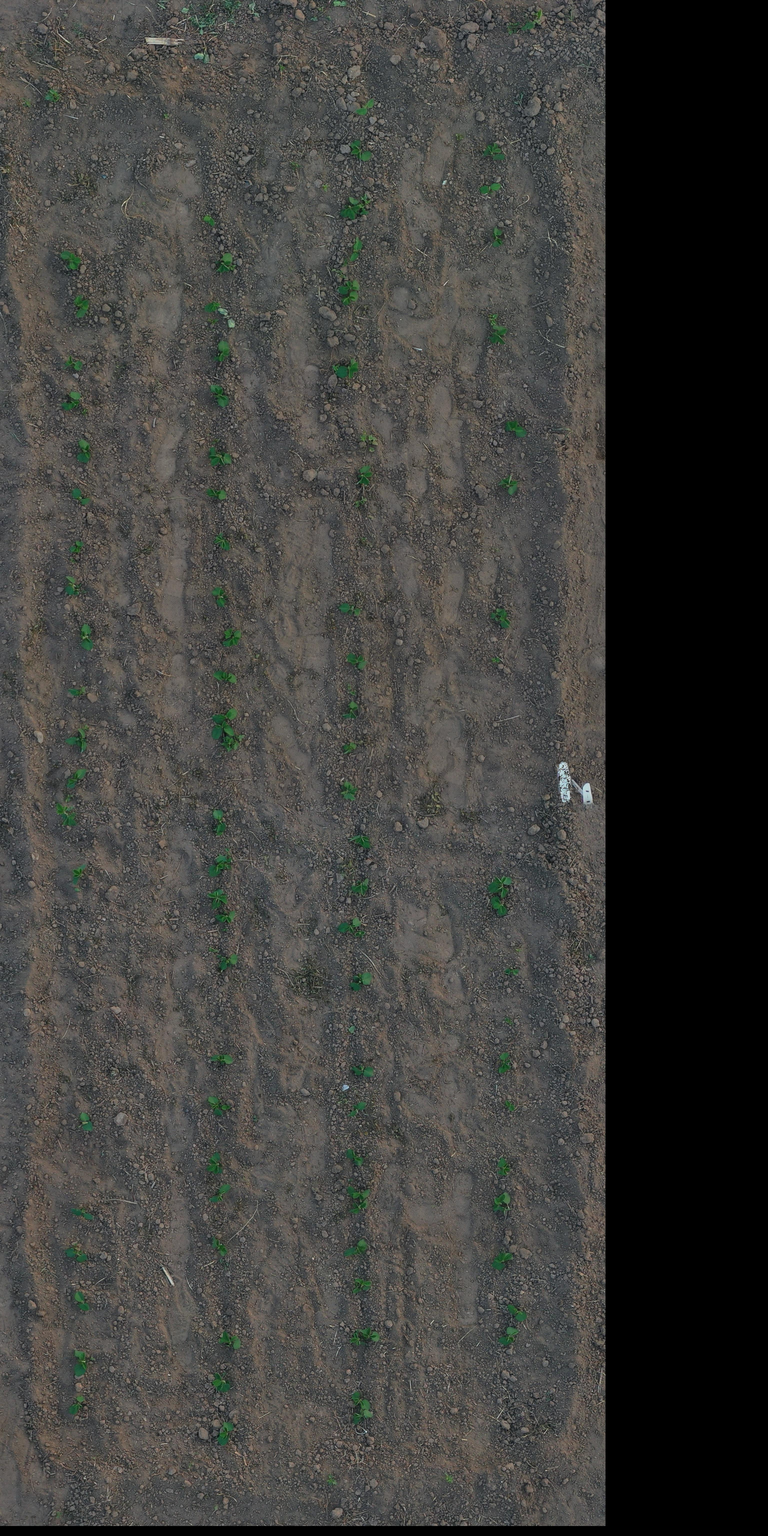s: (53, 802, 78, 827), (64, 728, 88, 754), (487, 875, 513, 899), (340, 196, 362, 220), (335, 357, 360, 378), (520, 8, 542, 31), (209, 384, 230, 408), (348, 971, 372, 992), (217, 1330, 242, 1350), (350, 140, 372, 162), (207, 888, 229, 910), (208, 447, 232, 467), (211, 720, 235, 740), (60, 390, 82, 411), (66, 768, 88, 789), (498, 1326, 520, 1347), (59, 250, 82, 270), (208, 854, 228, 877), (491, 1251, 514, 1271), (208, 1184, 232, 1203), (72, 294, 90, 319), (216, 1421, 234, 1446), (336, 916, 362, 933), (487, 324, 508, 345), (497, 474, 518, 495), (482, 142, 505, 161), (504, 420, 528, 438), (206, 1151, 224, 1175), (344, 1239, 368, 1257), (79, 623, 94, 651), (73, 1349, 88, 1377), (350, 1391, 371, 1411), (340, 780, 359, 802), (212, 708, 238, 724), (348, 832, 372, 849), (212, 809, 227, 836), (214, 252, 234, 272), (222, 628, 242, 648), (346, 1185, 371, 1201), (492, 1192, 511, 1213), (212, 1372, 231, 1393), (212, 340, 230, 362), (211, 586, 229, 608), (346, 652, 368, 670), (506, 1304, 528, 1322), (351, 1408, 374, 1425), (64, 1247, 88, 1263), (345, 1148, 365, 1167), (218, 953, 239, 971), (490, 896, 508, 917), (211, 1236, 229, 1257), (68, 1394, 86, 1415), (76, 438, 91, 463), (70, 488, 92, 505), (71, 862, 87, 885), (349, 236, 363, 262), (212, 670, 238, 684), (354, 98, 374, 116), (338, 602, 362, 617), (341, 700, 359, 720), (350, 878, 370, 896), (495, 608, 511, 630), (74, 1290, 90, 1312), (358, 1326, 380, 1342), (69, 1206, 94, 1220), (497, 1052, 512, 1075), (356, 465, 373, 485), (207, 1096, 224, 1116), (63, 355, 84, 371), (338, 279, 360, 294), (346, 1102, 368, 1117), (351, 1064, 374, 1078), (349, 1198, 369, 1214), (79, 1111, 94, 1132), (496, 1156, 511, 1177), (351, 1280, 372, 1295), (214, 532, 230, 551), (215, 910, 236, 924), (209, 1054, 235, 1065), (479, 182, 502, 194), (342, 290, 359, 306), (491, 226, 503, 248), (206, 488, 227, 500), (64, 575, 76, 596), (204, 300, 221, 313), (341, 741, 358, 754), (67, 686, 86, 697), (69, 540, 85, 553), (202, 215, 216, 227), (488, 608, 502, 619), (349, 1332, 360, 1346), (505, 1099, 515, 1112), (354, 930, 366, 938), (490, 657, 502, 664), (74, 584, 80, 596), (221, 1104, 231, 1111)
